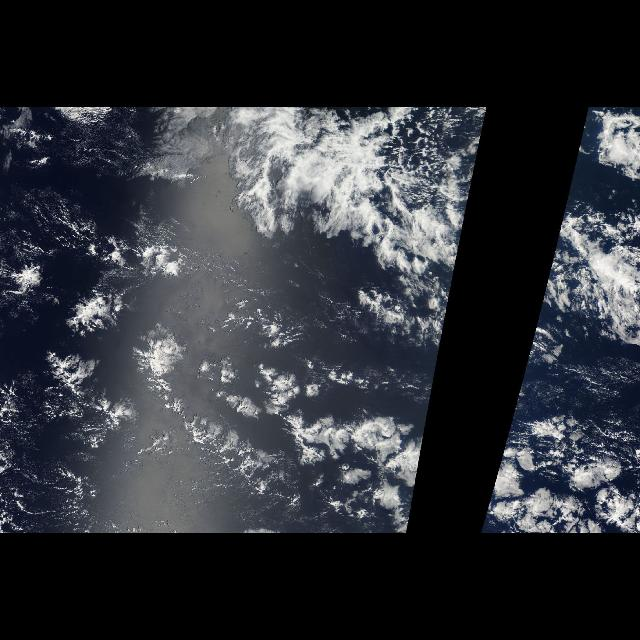Flower: (9, 187, 442, 533), (478, 345, 640, 533)
Sugar: (3, 363, 296, 529)
